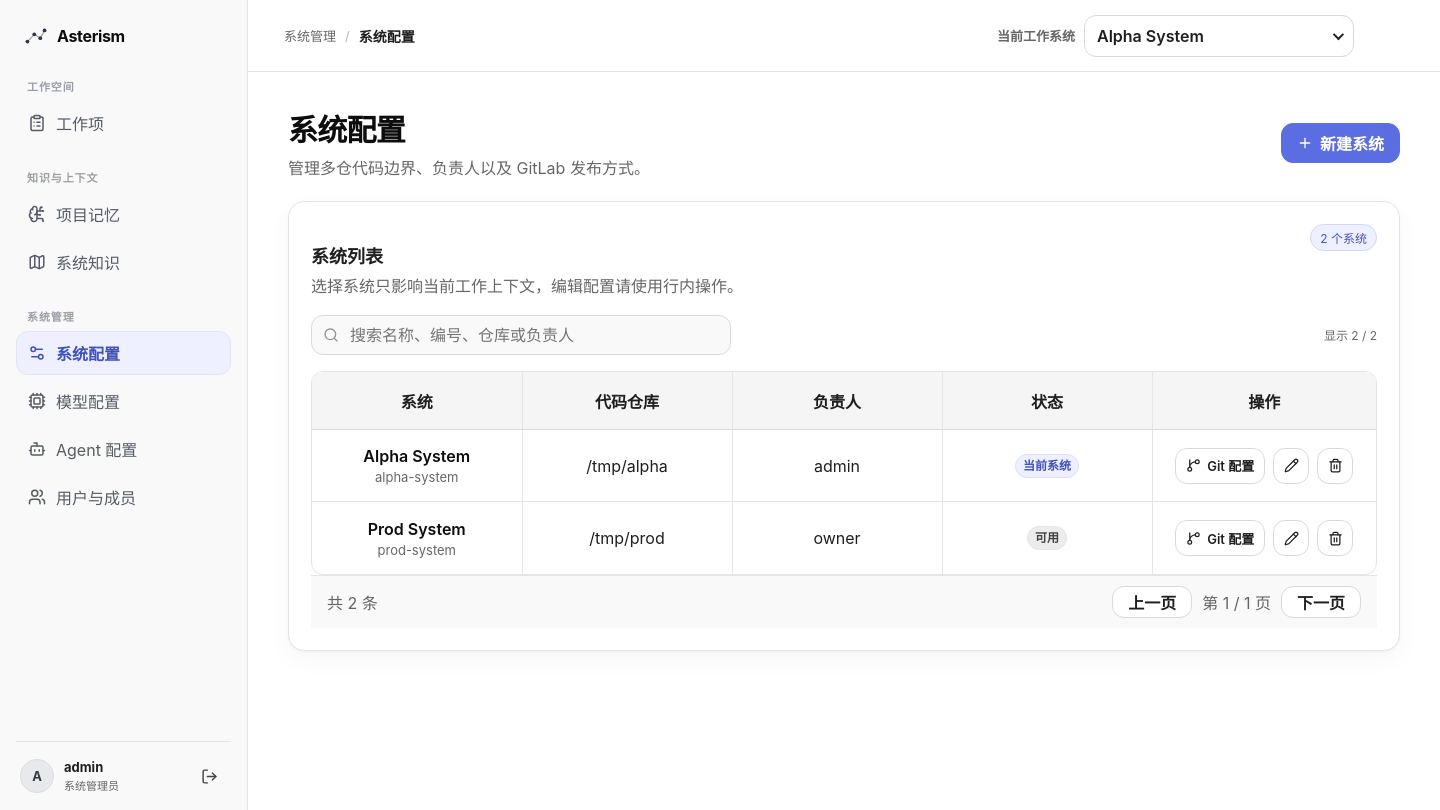
Test: system deletion failure is shown in the unified alert dialog
Click the button with aria-label "删除系统 alpha-system" at (1335, 466), box [1317,448,1353,484]
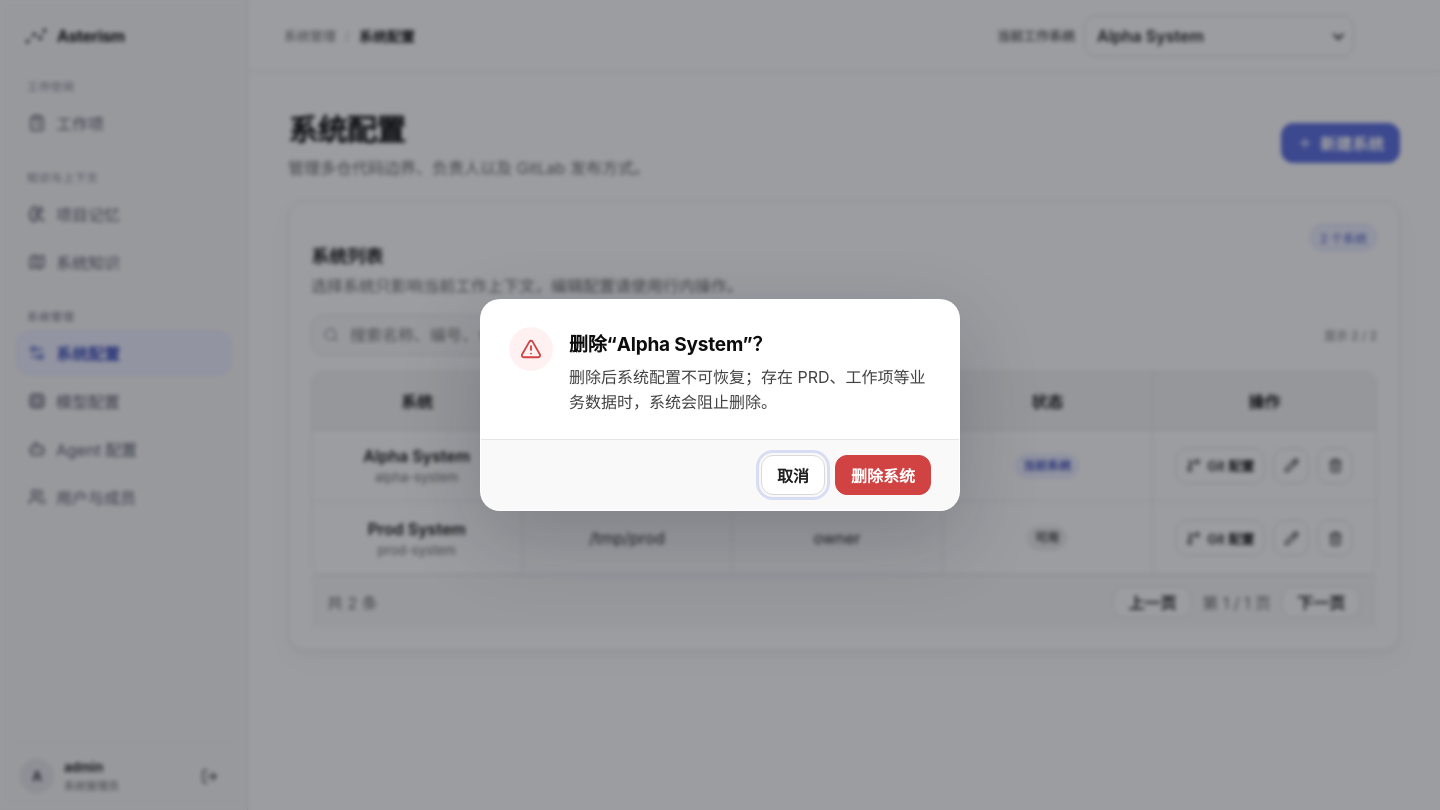
Click the button "删除系统" at (883, 475), box [835,455,931,495]
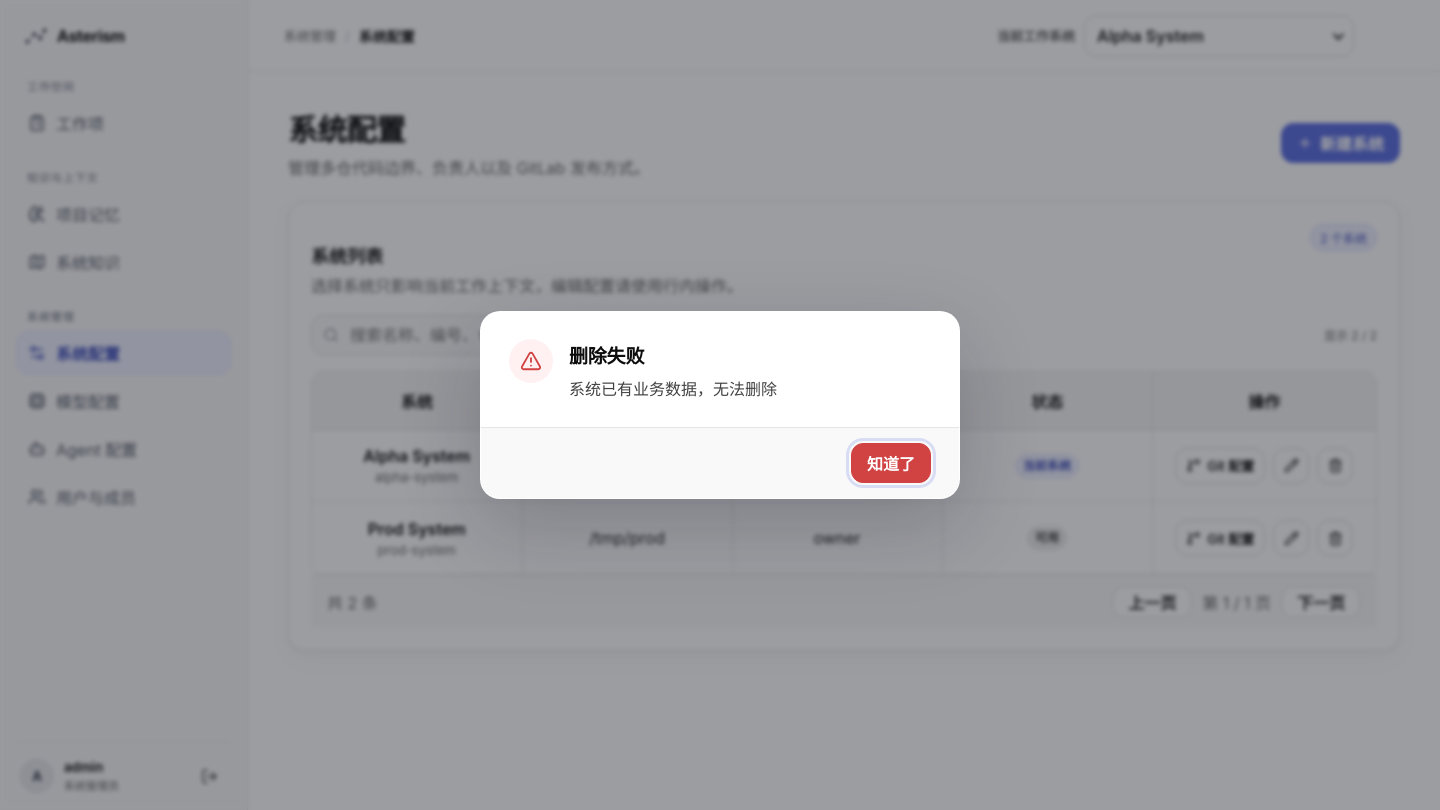
Expected: the dialog shows "删除失败", [569,345,644,368]
Expected: the dialog shows "系统已有业务数据，无法删除", [569,379,777,399]
Click the button "知道了" at (891, 463), box [851,443,931,483]
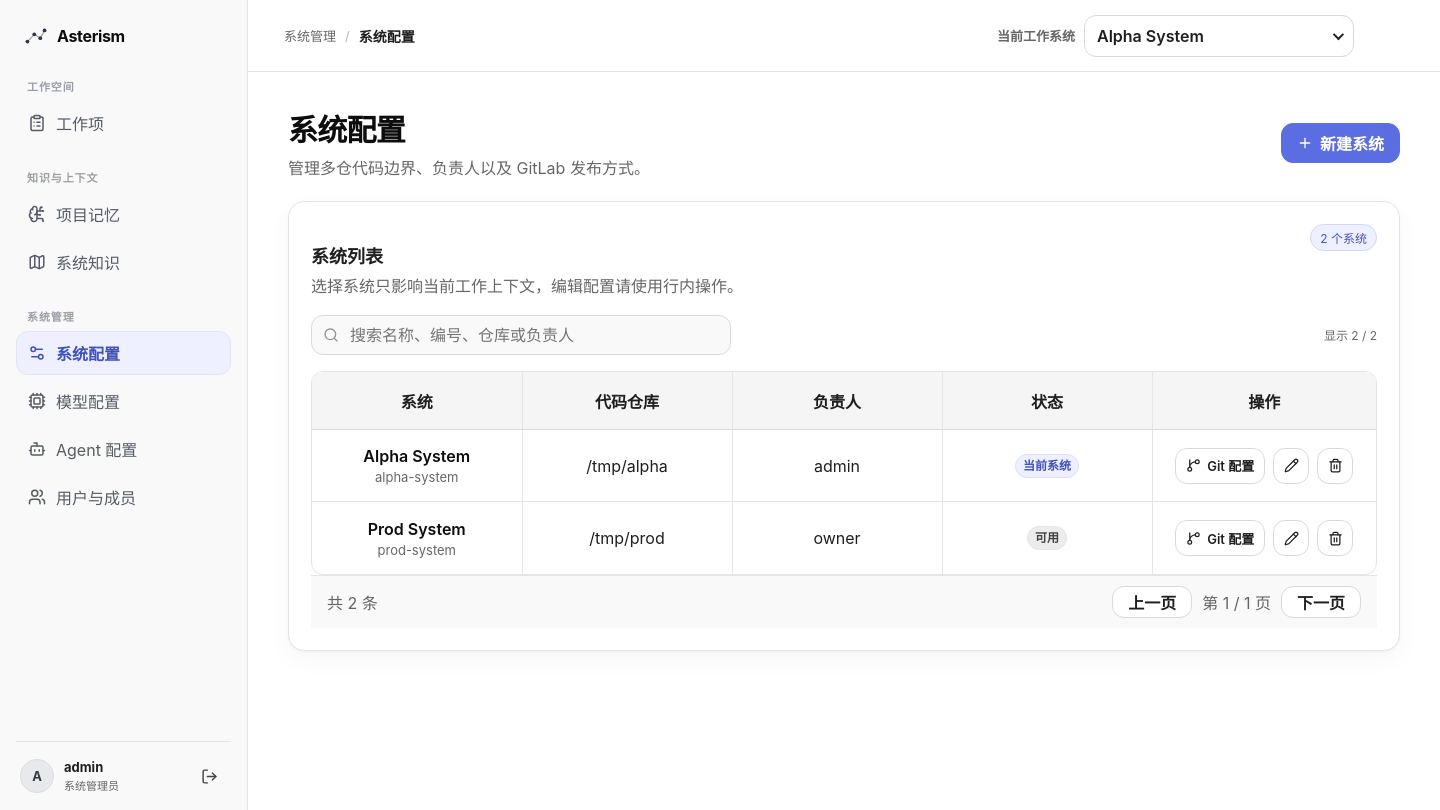
Expected: the dialog is gone
